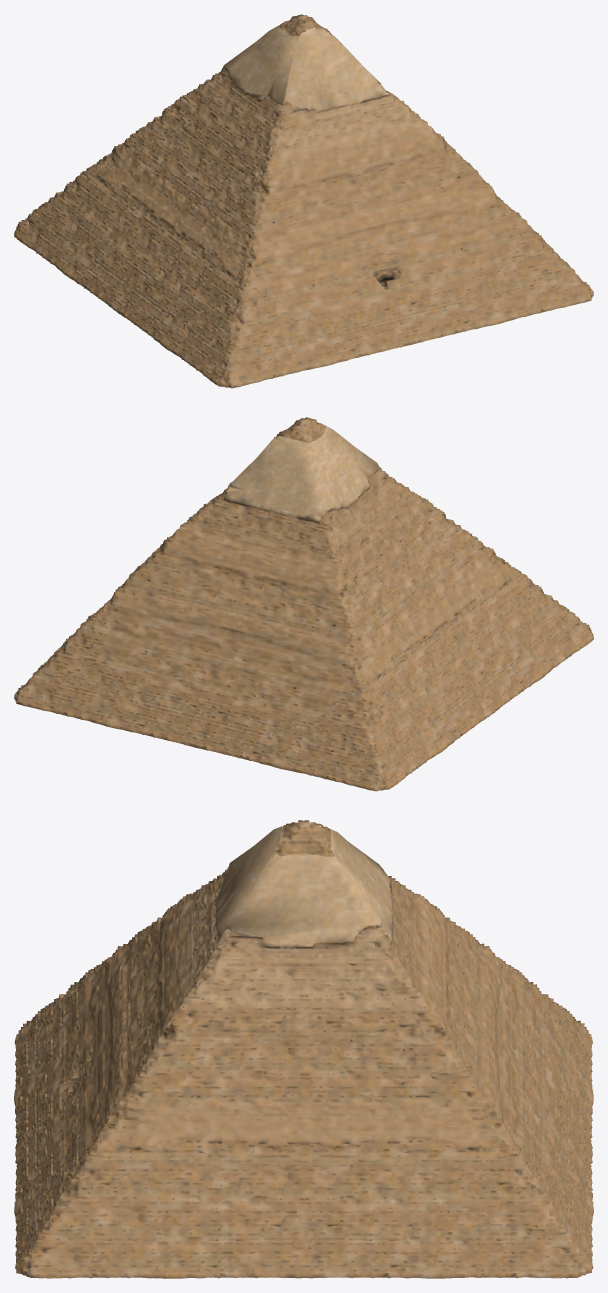
Rendered from 20250702_pyramyds_for_mb_pyramid2h.glb.
3 views of the same model, one above another, from view 1: azimuth 30°, elevation 25°; view 2: azimuth 150°, elevation 25°; view 3: azimuth 270°, elevation 25° (orthographic). The views are drawn at different scales.
Visible parts, largest first — view 1: khafre; view 2: khafre; view 3: khafre.
Boxes of the visible parts, x1,y1,x2,y2 form: khafre: (14,14,593,388); khafre: (14,417,593,791); khafre: (14,820,593,1278).
Bounding box in the file's own units: 217 × 136 × 216.
Materials: 1 (1 with a texture image).
